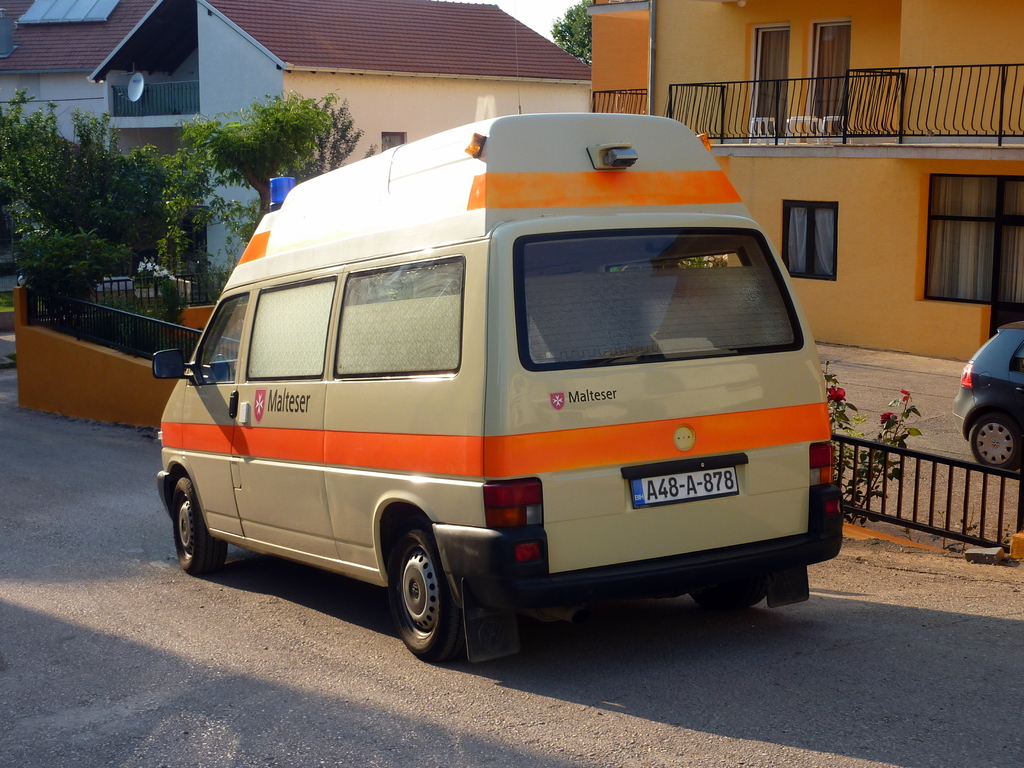Tree: (0, 84, 377, 299), (548, 0, 594, 66)
